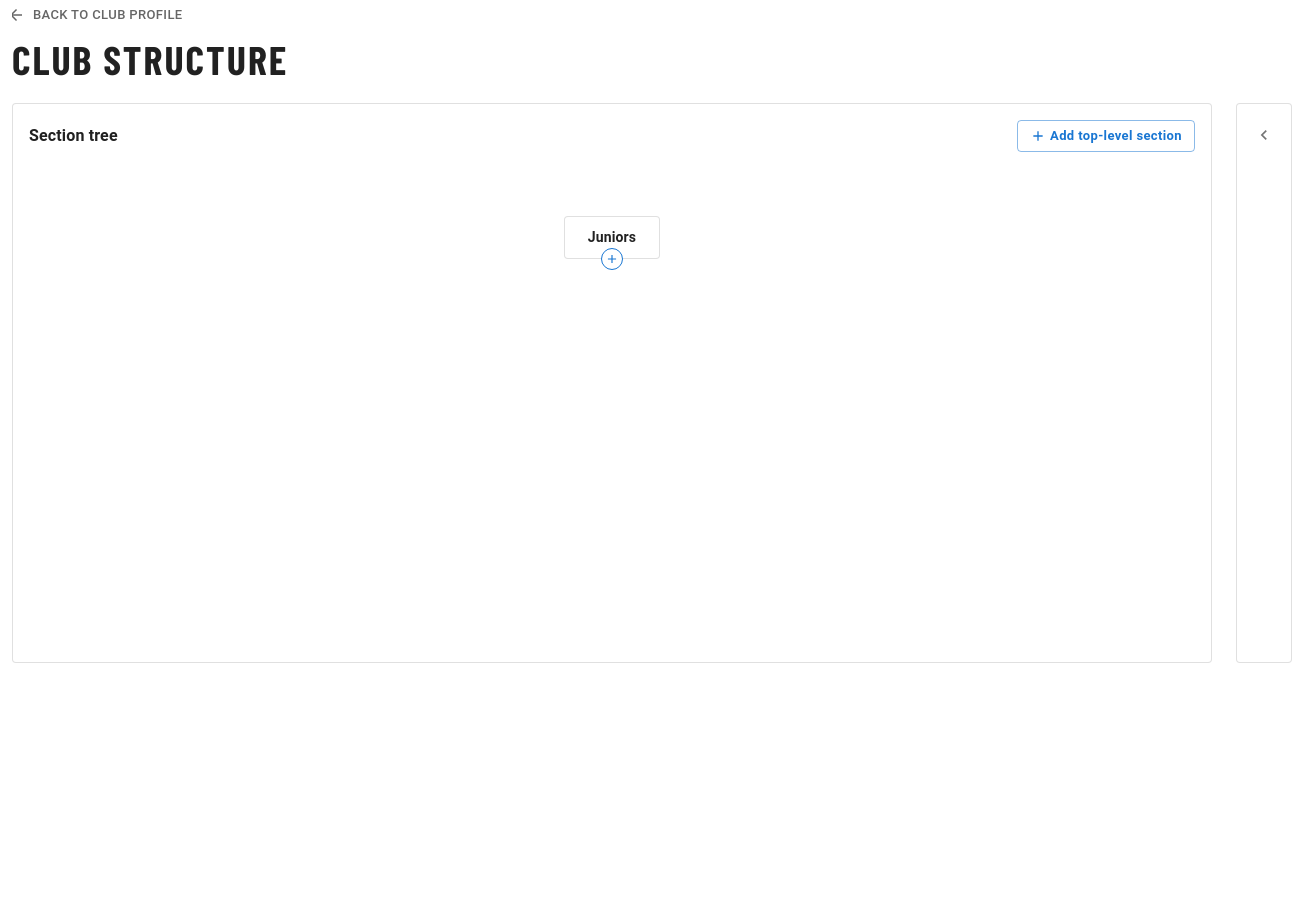
ClubStructure › the "Clear" action deselects the current section, and the panel auto-collapses since nothing is selected anymore
Click the button "Juniors": point(612, 237) [564,216,660,259]
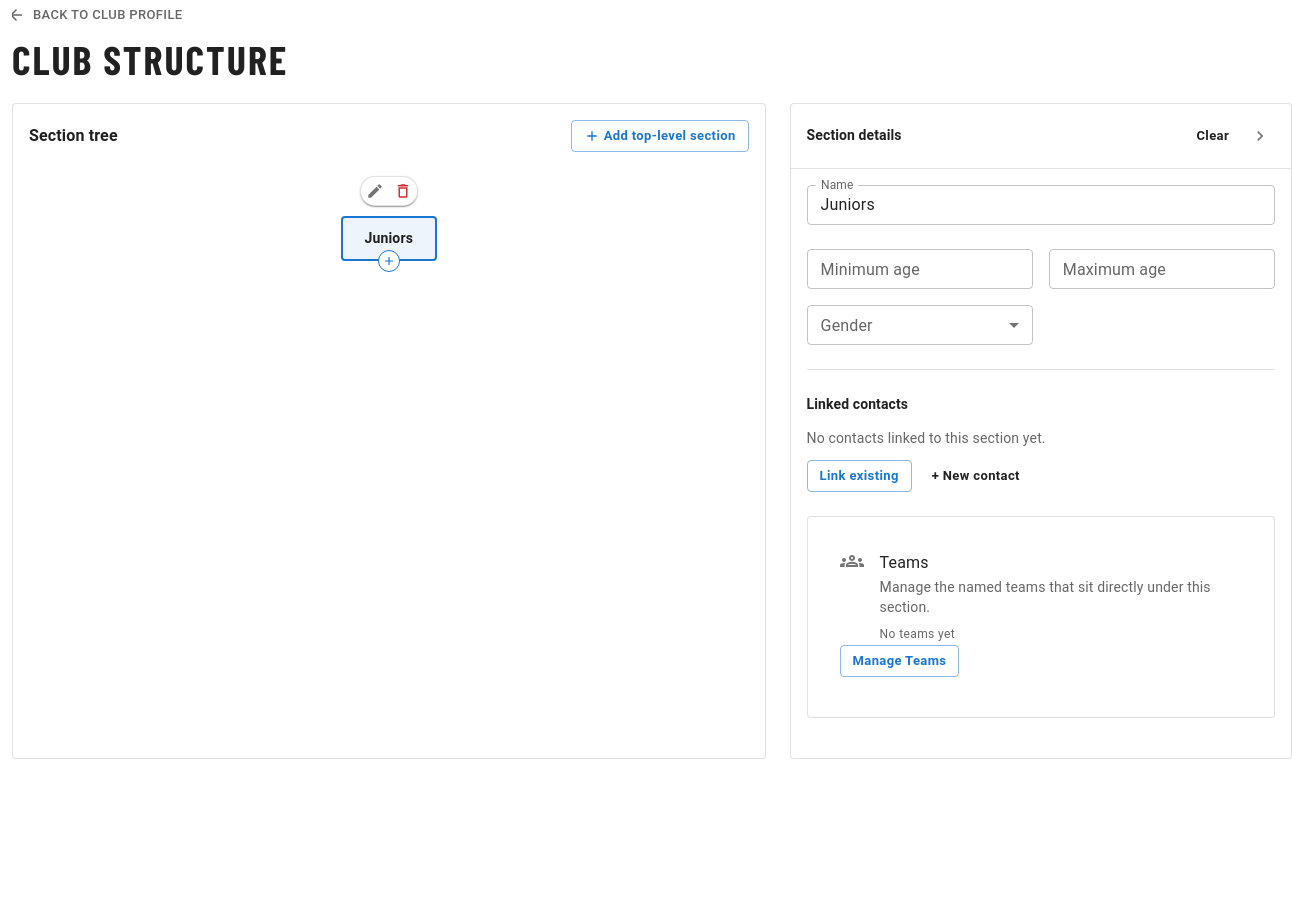
Expected: the field labelled "Name" is shown, [807,185,1275,225]
Click the button "Clear": point(1213, 136) [1184,120,1241,152]
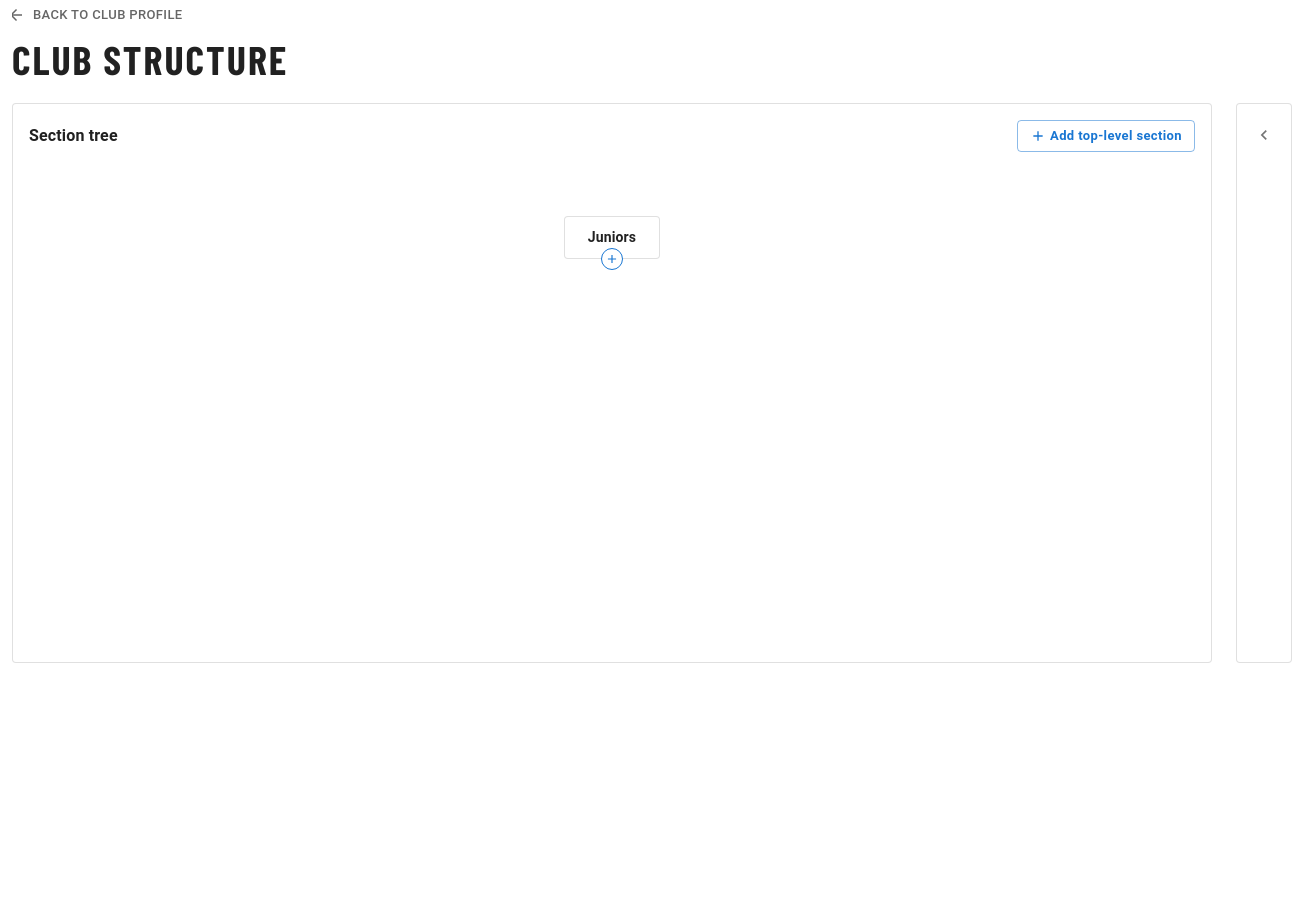
Expected: the button named "Expand section details" is shown, [1249,120,1279,150]
Expected: the label labelled "Name" is gone
Expected: the button "Clear" is gone
